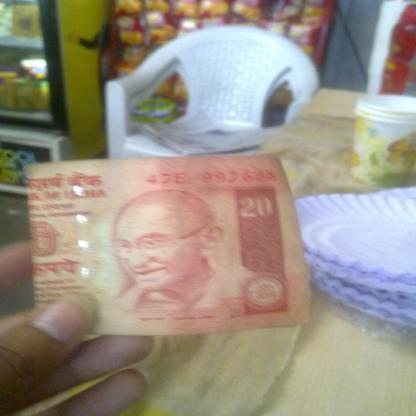Old20Front: (25, 155, 309, 336)
